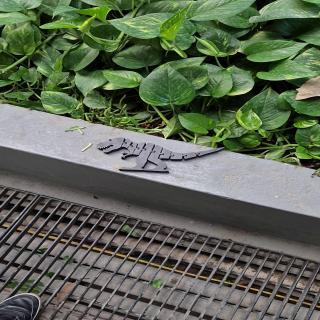dino: (96, 137, 226, 173)
